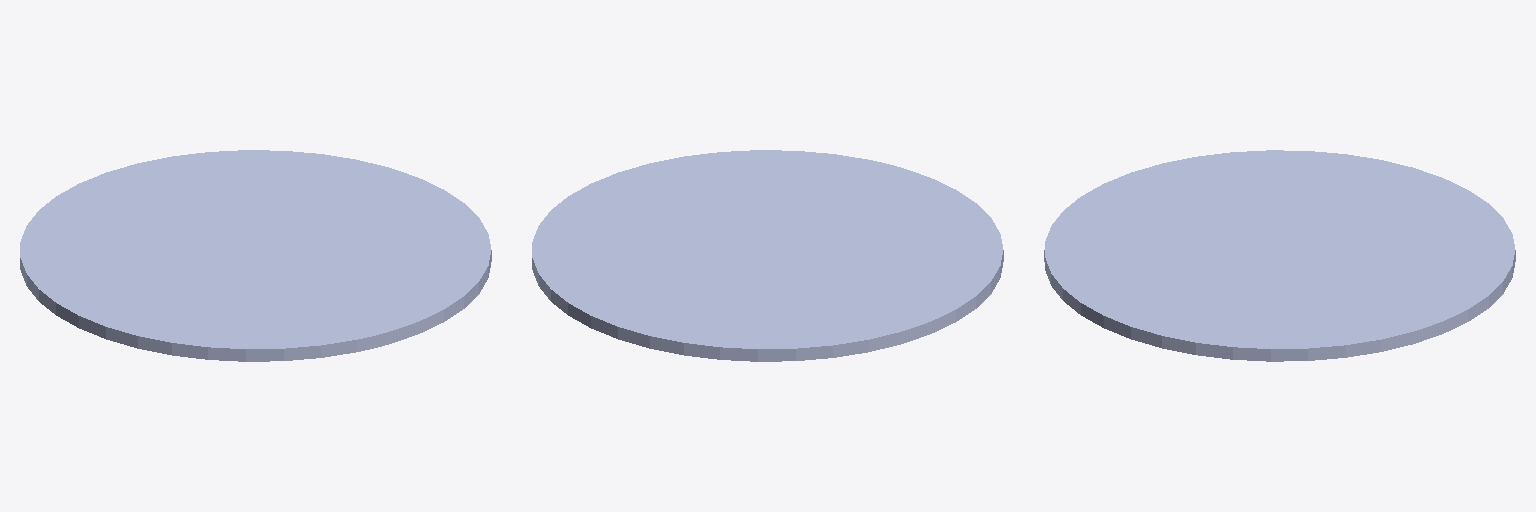
The robot description file, URDF, robot "ball_balancer_table":
<?xml version="1.0" encoding="utf-8"?>
<!-- This URDF was automatically created by SolidWorks to URDF Exporter! Originally created by [author] ([email redacted]) 
     Commit Version: 1.6.0-4-g7f85cfe  Build Version: 1.6.7995.38578
     For more information, please see http://wiki.ros.org/sw_urdf_exporter -->
<robot
  name="ball_balancer_table">
  <link
    name="base_link">
    <inertial>
      <origin
        xyz="-3.06281976340791E-10 0.0024952689120884 6.22399215003891E-11"
        rpy="0 0 0" />
      <mass
        value="0.113623772682042" />
      <inertia
        ixx="0.000203272394718795"
        ixy="-4.39151056766037E-14"
        ixz="-1.44707292868474E-13"
        iyy="0.000406074363039218"
        iyz="8.22732076088615E-15"
        izz="0.000203272394445846" />
    </inertial>
    <visual>
      <origin
        xyz="0 0 0"
        rpy="0 0 0" />
      <geometry>
        <mesh
          filename="package://ball_balancer_table/meshes/base_link.STL" />
      </geometry>
      <material
        name="">
        <color
          rgba="0.792156862745098 0.819607843137255 0.933333333333333 1" />
      </material>
    </visual>
    <collision>
      <origin
        xyz="0 0 0"
        rpy="0 0 0" />
      <geometry>
        <mesh
          filename="package://ball_balancer_table/meshes/base_link.STL" />
      </geometry>
    </collision>
  </link>
  <link
    name="table_magnet_1_link">
    <inertial>
      <origin
        xyz="3.06281971396066E-10 -0.0749999999377601 0.0019952689120884"
        rpy="0 0 0" />
      <mass
        value="0.113623772682042" />
      <inertia
        ixx="0.000203272394718795"
        ixy="1.44707292887861E-13"
        ixz="4.39151056763551E-14"
        iyy="0.000203272394445846"
        iyz="8.22732076245507E-15"
        izz="0.000406074363039218" />
    </inertial>
    <visual>
      <origin
        xyz="0 0 0"
        rpy="0 0 0" />
      <geometry>
        <mesh
          filename="package://ball_balancer_table/meshes/table_magnet_1_link.STL" />
      </geometry>
      <material
        name="">
        <color
          rgba="0.792156862745098 0.819607843137255 0.933333333333333 1" />
      </material>
    </visual>
    <collision>
      <origin
        xyz="0 0 0"
        rpy="0 0 0" />
      <geometry>
        <mesh
          filename="package://ball_balancer_table/meshes/table_magnet_1_link.STL" />
      </geometry>
    </collision>
  </link>
  <joint
    name="table_magnet_1_joint"
    type="fixed">
    <origin
      xyz="0 -0.075 0.0005"
      rpy="0 0 3.1416" />
    <parent
      link="base_link" />
    <child
      link="table_magnet_1_link" />
    <axis
      xyz="0 0 0" />
  </joint>
  <link
    name="table_magnet_2_link">
    <inertial>
      <origin
        xyz="0.0649519055901152 0.0375000000622393 0.0019952689120884"
        rpy="0 0 0" />
      <mass
        value="0.113623772682042" />
      <inertia
        ixx="0.000203272394718795"
        ixy="1.44707292887861E-13"
        ixz="4.39151056763551E-14"
        iyy="0.000203272394445846"
        iyz="8.22732076083948E-15"
        izz="0.000406074363039218" />
    </inertial>
    <visual>
      <origin
        xyz="0 0 0"
        rpy="0 0 0" />
      <geometry>
        <mesh
          filename="package://ball_balancer_table/meshes/table_magnet_2_link.STL" />
      </geometry>
      <material
        name="">
        <color
          rgba="0.792156862745098 0.819607843137255 0.933333333333333 1" />
      </material>
    </visual>
    <collision>
      <origin
        xyz="0 0 0"
        rpy="0 0 0" />
      <geometry>
        <mesh
          filename="package://ball_balancer_table/meshes/table_magnet_2_link.STL" />
      </geometry>
    </collision>
  </link>
  <joint
    name="table_magnet_2_joint"
    type="fixed">
    <origin
      xyz="0.064952 0.0375 0.0005"
      rpy="0 0 3.1416" />
    <parent
      link="base_link" />
    <child
      link="table_magnet_2_link" />
    <axis
      xyz="0 0 0" />
  </joint>
  <link
    name="table_magnet_3_link">
    <inertial>
      <origin
        xyz="-0.0649519049775508 0.0375000000622402 0.0019952689120884"
        rpy="0 0 0" />
      <mass
        value="0.113623772682042" />
      <inertia
        ixx="0.000203272394718795"
        ixy="1.44707292913711E-13"
        ixz="4.39151056762542E-14"
        iyy="0.000203272394445846"
        iyz="8.22732076114623E-15"
        izz="0.000406074363039218" />
    </inertial>
    <visual>
      <origin
        xyz="0 0 0"
        rpy="0 0 0" />
      <geometry>
        <mesh
          filename="package://ball_balancer_table/meshes/table_magnet_3_link.STL" />
      </geometry>
      <material
        name="">
        <color
          rgba="0.792156862745098 0.819607843137255 0.933333333333333 1" />
      </material>
    </visual>
    <collision>
      <origin
        xyz="0 0 0"
        rpy="0 0 0" />
      <geometry>
        <mesh
          filename="package://ball_balancer_table/meshes/table_magnet_3_link.STL" />
      </geometry>
    </collision>
  </link>
  <joint
    name="table_magnet_3_joint"
    type="fixed">
    <origin
      xyz="-0.064952 0.0375 0.0005"
      rpy="0 0 3.1416" />
    <parent
      link="base_link" />
    <child
      link="table_magnet_3_link" />
    <axis
      xyz="0 0 0" />
  </joint>
</robot>

--- What the picture shows (computed from the rendered views, not written in the file) ---
3 views of the same robot in one strip: view 1: azimuth 30°, elevation 25°; view 2: azimuth 150°, elevation 25°; view 3: azimuth 270°, elevation 25° (orthographic).
Model ball_balancer_table with 4 links and 3 joints (3 fixed), rooted at base_link, posed every joint at zero.
Links seen in each view (by area): view 1: base_link, table_magnet_1_link, table_magnet_2_link, table_magnet_3_link; view 2: table_magnet_1_link, base_link, table_magnet_3_link, table_magnet_2_link; view 3: base_link, table_magnet_2_link, table_magnet_1_link, table_magnet_3_link.
Link boxes in pixels (x1,y1,x2,y2): base_link: (23,150,472,348); table_magnet_1_link: (20,150,490,361); table_magnet_2_link: (27,150,491,360); table_magnet_3_link: (20,150,483,348); table_magnet_1_link: (532,150,1003,360); base_link: (532,150,1001,348); table_magnet_3_link: (532,151,995,361); table_magnet_2_link: (532,150,1001,348); base_link: (1045,150,1514,348); table_magnet_2_link: (1044,151,1506,361); table_magnet_1_link: (1051,150,1512,346); table_magnet_3_link: (1047,150,1515,360).
Size in the robot's own frame: 0.1699 by 0.17 by 0.006 metres.
4 mesh visuals loaded from 4 distinct referenced files (4 binary STL).